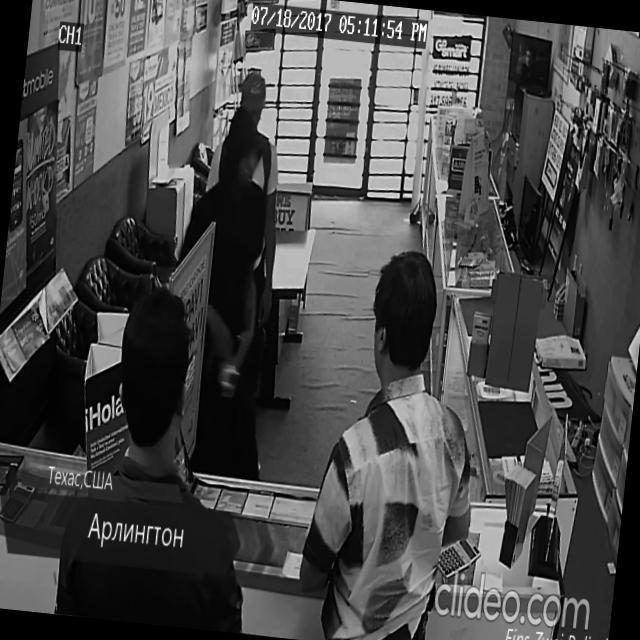gun: (212, 342, 246, 412)
person: (290, 238, 500, 640), (51, 276, 279, 634), (175, 64, 296, 478)
person with a gun: (155, 97, 300, 480)
